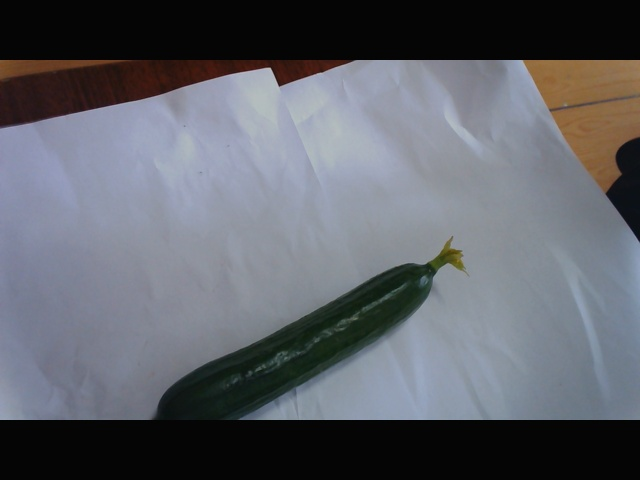cucumber: (129, 262, 458, 413)
